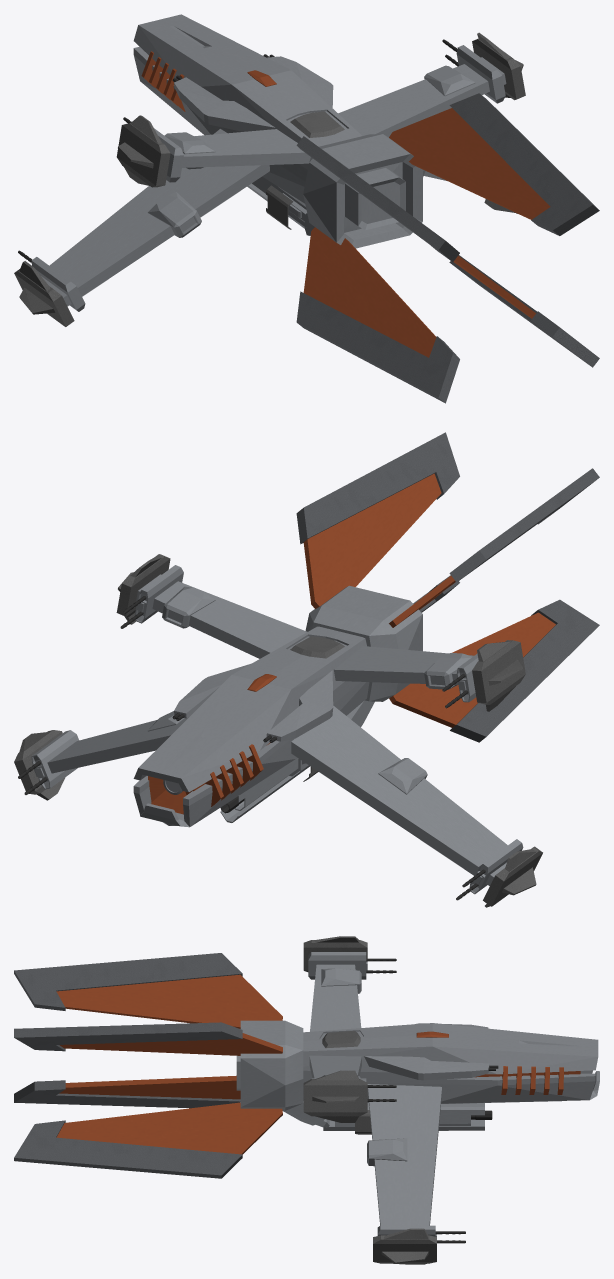
The model's file is ship_01.glb.
3 renders of one model, top to bottom at view 1: azimuth 30°, elevation 25°; view 2: azimuth 150°, elevation 25°; view 3: azimuth 270°, elevation 25°, orthographic. The views are drawn at different scales.
Parts seen in each view (by area): view 1: 전투기.089, 전투기.073, 전투기.003, 꼬리날개.001, 꼬리날개 외곽.004, 꼬리날개 외곽.003, 꼬리날개 외곽, 전투기.059, 전투기.002, 전투기.063, 꼬리날개 외곽.001, 전투기.001 (+15 smaller); view 2: 전투기.089, 전투기.003, 꼬리날개.001, 꼬리날개 외곽, 전투기.073, 꼬리날개 외곽.003, 전투기.059, 꼬리날개 외곽.004, 전투기.021, 전투기.002, 전투기.063, 꼬리날개 외곽.001 (+17 smaller); view 3: 전투기.089, 전투기.021, 꼬리날개, 꼬리날개 외곽.005, 꼬리날개 외곽.002, 꼬리날개 외곽.001, 전투기.073, 꼬리날개 외곽, 꼬리날개 외곽.004, 전투기.004, 꼬리날개 외곽.003, 꼬리날개.001 (+13 smaller).
Part boxes in pixels (<box>): 전투기.089: <box>133,14,361,203</box>; 전투기.073: <box>303,134,422,248</box>; 전투기.003: <box>41,129,269,306</box>; 꼬리날개.001: <box>389,108,550,219</box>; 꼬리날개 외곽.004: <box>303,227,436,357</box>; 꼬리날개 외곽.003: <box>296,291,459,403</box>; 꼬리날개 외곽: <box>449,93,599,235</box>; 전투기.059: <box>338,57,506,137</box>; 전투기.002: <box>182,129,310,167</box>; 전투기.063: <box>116,115,170,187</box>; 꼬리날개 외곽.001: <box>296,136,459,261</box>; 전투기.001: <box>174,77,275,131</box>; 전투기.089: <box>133,626,369,827</box>; 전투기.003: <box>291,706,507,885</box>; 꼬리날개.001: <box>303,473,441,608</box>; 꼬리날개 외곽: <box>296,432,459,544</box>; 전투기.073: <box>305,585,422,701</box>; 꼬리날개 외곽.003: <box>450,599,599,742</box>; 전투기.059: <box>136,574,307,658</box>; 꼬리날개 외곽.004: <box>389,612,555,727</box>; 전투기.021: <box>33,717,188,776</box>; 전투기.002: <box>334,646,473,684</box>; 전투기.063: <box>472,640,525,711</box>; 꼬리날개 외곽.001: <box>449,468,599,582</box>; 전투기.089: <box>303,1023,599,1103</box>; 전투기.021: <box>367,1084,441,1225</box>; 꼬리날개: <box>56,974,282,1028</box>; 꼬리날개 외곽.005: <box>56,1102,282,1154</box>; 꼬리날개 외곽.002: <box>14,1120,242,1178</box>; 꼬리날개 외곽.001: <box>14,953,242,1010</box>; 전투기.073: <box>236,1020,303,1110</box>; 꼬리날개 외곽: <box>14,1022,242,1051</box>; 꼬리날개 외곽.004: <box>59,1075,240,1099</box>; 전투기.004: <box>303,1070,367,1122</box>; 꼬리날개 외곽.003: <box>14,1080,240,1108</box>; 꼬리날개.001: <box>59,1033,282,1055</box>.
Size of the model in its own units: 21.08 by 9.35 by 26.13.
Materials: 8 (7 with a texture image).
